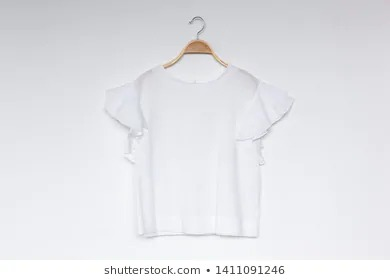S_short blouse: (105, 59, 293, 240)
